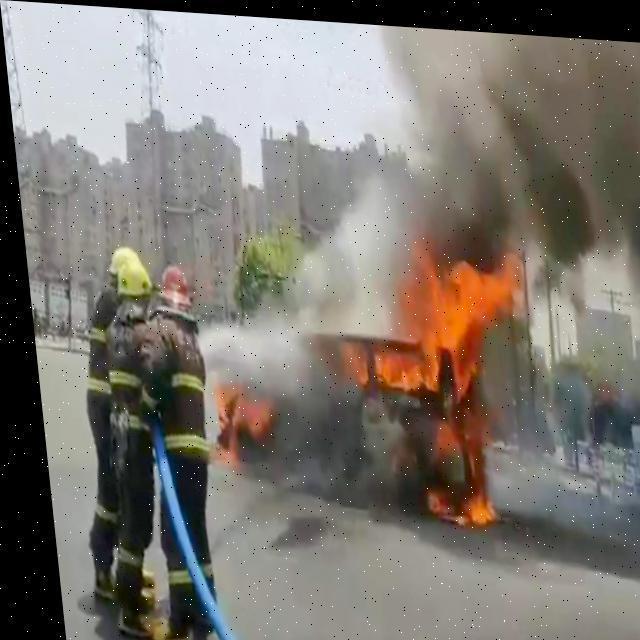Fire: (347, 222, 528, 407), (410, 418, 491, 522), (200, 368, 268, 474)
